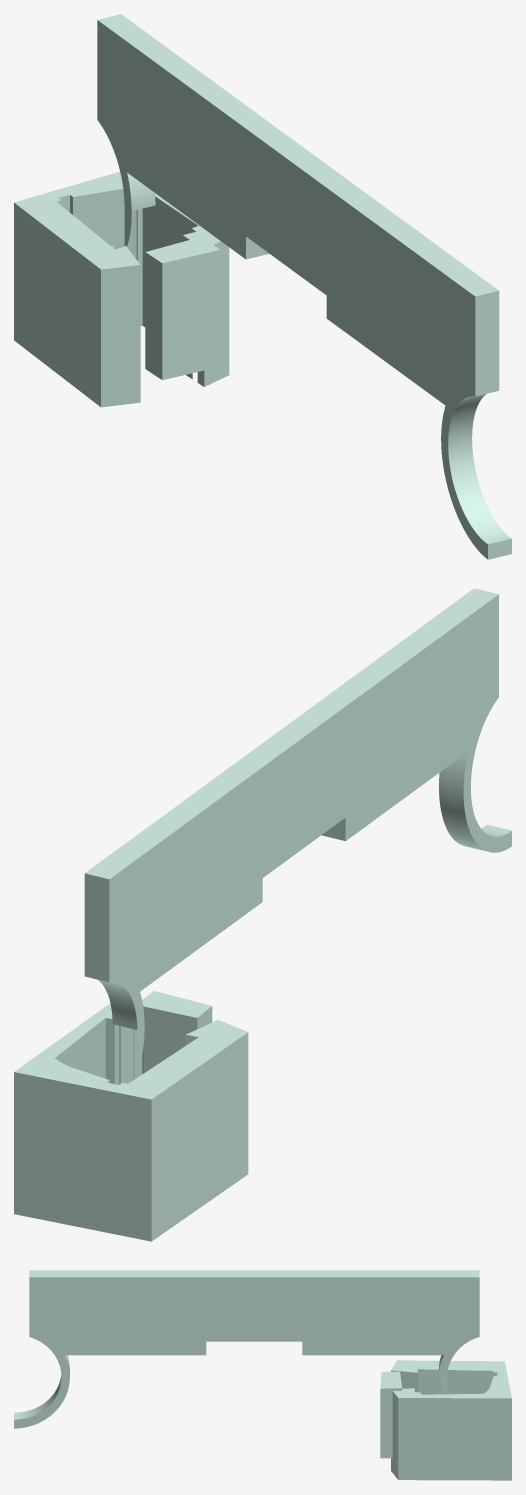
The picture shows the model from 3 angles, top to bottom: view 1: azimuth 30°, elevation 25°; view 2: azimuth 150°, elevation 25°; view 3: azimuth 270°, elevation 25°; orthographic projection. The views are drawn at different scales.
Visible parts, largest first — view 1: Renderer Node; view 2: Renderer Node; view 3: Renderer Node.
Boxes of the visible parts, left/top/right/bottom form: Renderer Node: left=14, top=14, right=511, bottom=559; Renderer Node: left=14, top=588, right=511, bottom=1241; Renderer Node: left=14, top=1270, right=511, bottom=1480.
Size of the model in its own units: 0.2563 by 0.5999 by 1.42.
